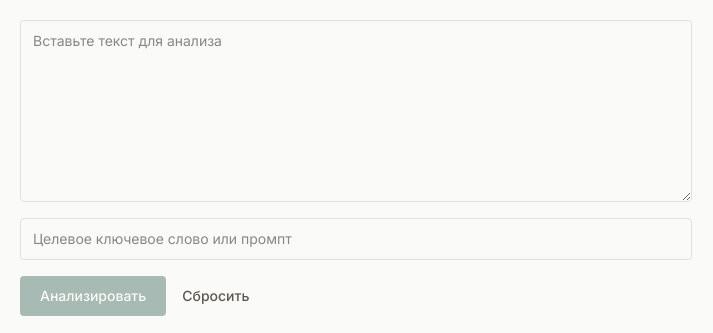
Test: TextModePanel › clicking Сбросить clears both input fields
This screenshot has width=713, height=333.
Type "some text" into the text box with placeholder "Вставьте текст для анализа" at (356,111), box x1=20 y1=20 x2=692 y2=202
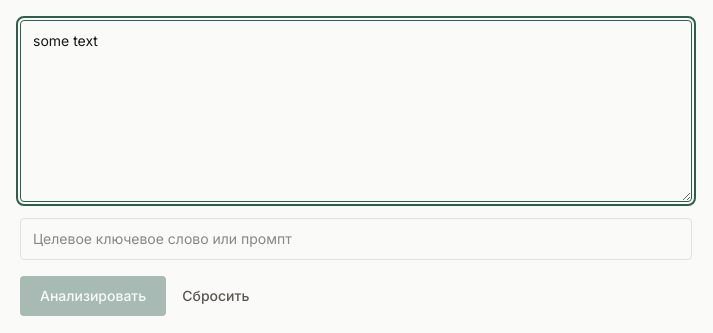
Type "keyword" into the field with placeholder "Целевое ключевое слово или промпт" at (356,239), box x1=20 y1=218 x2=692 y2=260
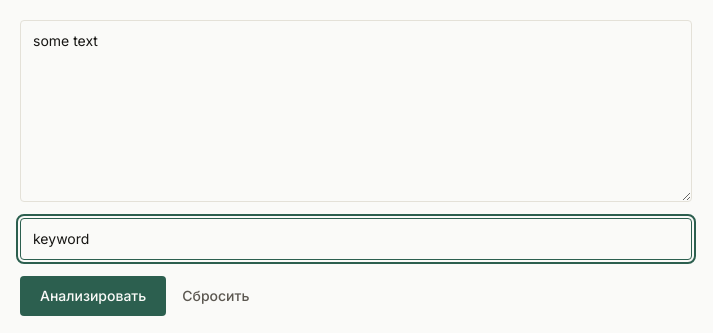
Click the button "Сбросить" at (216,296), box x1=182 y1=286 x2=249 y2=306
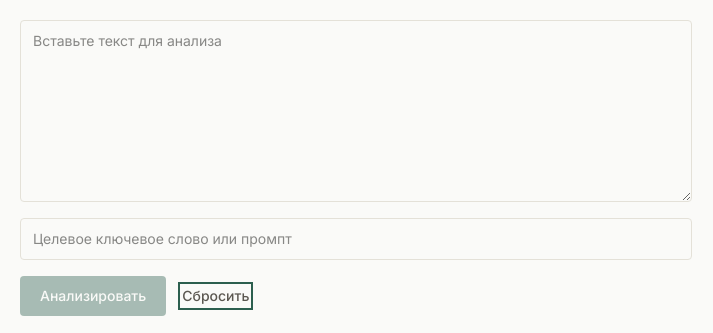
Expected: the text box with placeholder "Вставьте текст для анализа" is empty, x1=20 y1=20 x2=692 y2=202
Expected: the field with placeholder "Целевое ключевое слово или промпт" is empty, x1=20 y1=218 x2=692 y2=260
